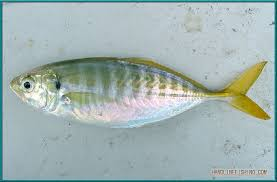Ikan Selar: (8, 57, 269, 124)
